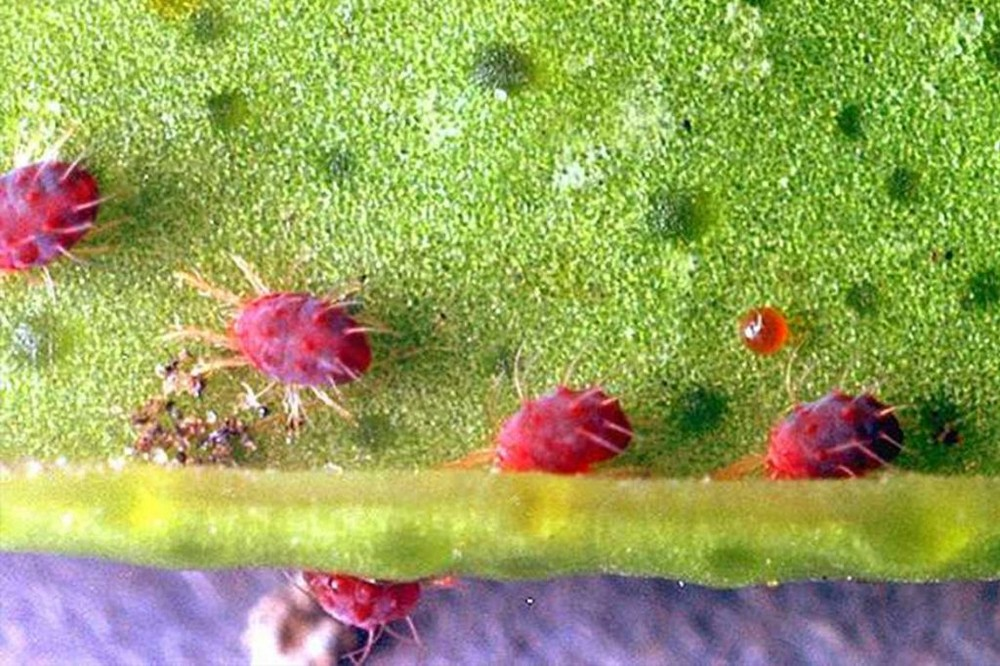Aracnido Rojo: (172, 245, 420, 439), (701, 345, 936, 534), (448, 333, 643, 509), (2, 115, 148, 282), (288, 526, 457, 653)
